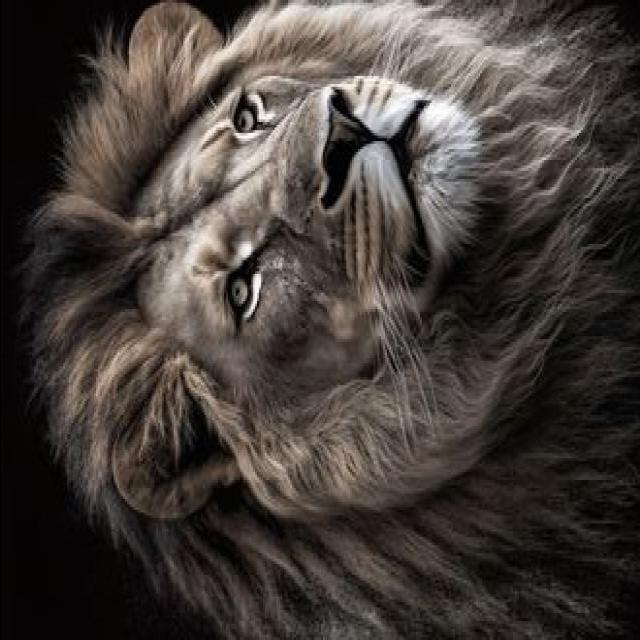lions: (13, 2, 640, 640)
